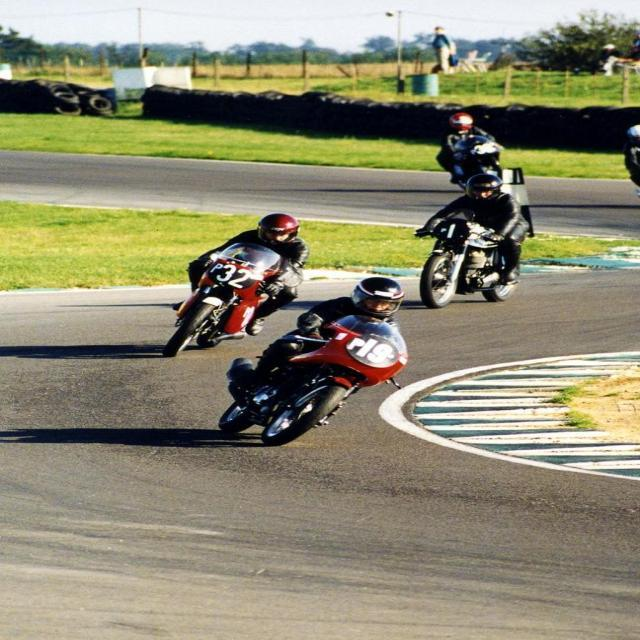bus: (218, 311, 414, 443), (170, 243, 290, 357), (410, 214, 532, 308), (432, 130, 508, 186)
